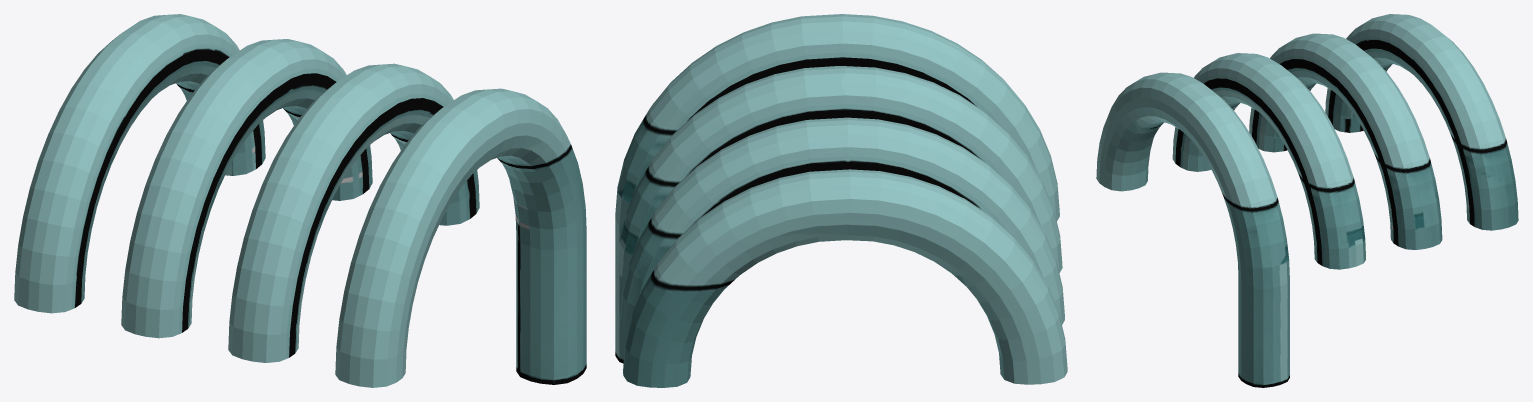
File: tubes_3.glb
3 views of the same model, side by side, from view 1: azimuth 30°, elevation 25°; view 2: azimuth 150°, elevation 25°; view 3: azimuth 270°, elevation 25° (orthographic). The views are drawn at different scales.
Parts seen in each view (by area): view 1: Tubes.003; view 2: Tubes.003; view 3: Tubes.003.
Part boxes in pixels (x1,y1,x2,y2): Tubes.003: (14, 14, 586, 387); Tubes.003: (615, 14, 1067, 387); Tubes.003: (1096, 14, 1518, 387).
Bounding box in the file's own units: 9.35 × 5.89 × 9.29.
1 material, 1 textured.
